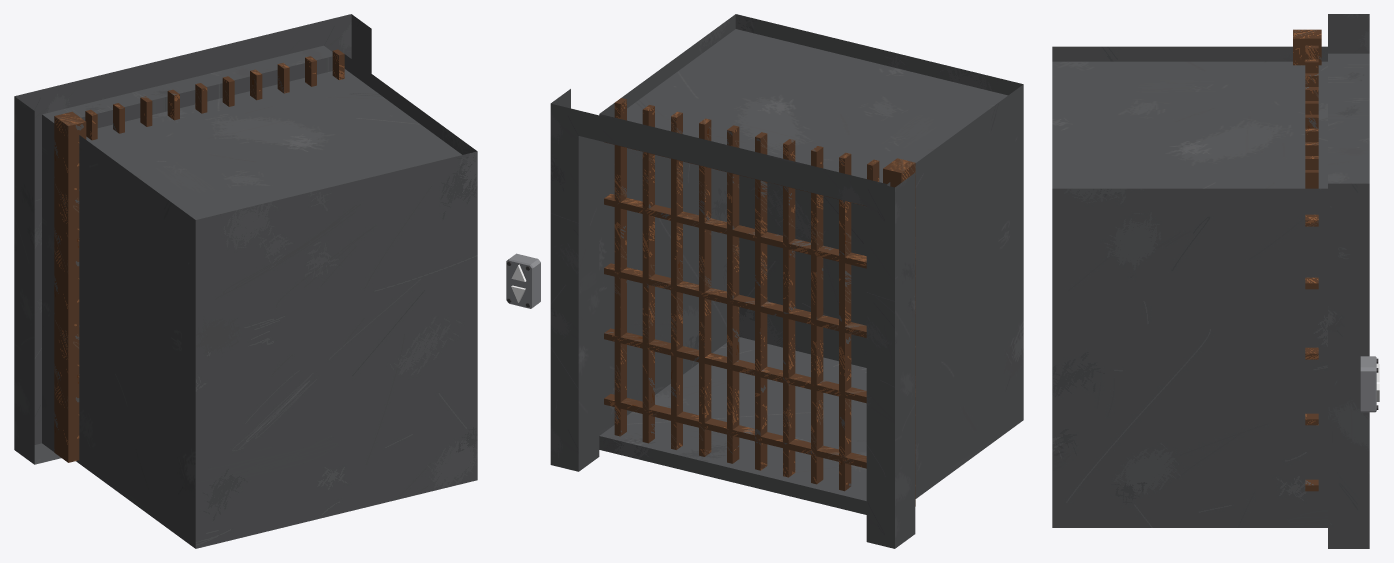
Rendered from lift.fbx.
The picture shows the model from 3 angles, left to right: view 1: azimuth 30°, elevation 25°; view 2: azimuth 150°, elevation 25°; view 3: azimuth 270°, elevation 25°; orthographic projection. The views are drawn at different scales.
Visible parts, largest first — view 1: lift_inside, lift_entry_way, pCube4; view 2: lift_inside, pCube4, lift_entry_way, panel; view 3: lift_inside, lift_entry_way, pCube4, panel.
Part boxes in pixels (x1,y1,x2,y2): lift_inside: (76,54,477,548); lift_entry_way: (14,14,371,464); pCube4: (54,49,344,462); lift_inside: (599,14,1023,514); pCube4: (604,98,915,506); lift_entry_way: (550,89,915,548); panel: (506,253,540,308); lift_inside: (1052,46,1327,527); lift_entry_way: (1328,14,1369,548); pCube4: (1293,29,1321,491); panel: (1360,356,1378,412).
Size of the model in its own units: 6.7 by 6 by 4.87.
Materials: 3 (3 with a texture image).
